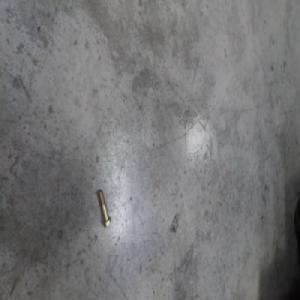Bolt: (97, 188, 112, 229)
